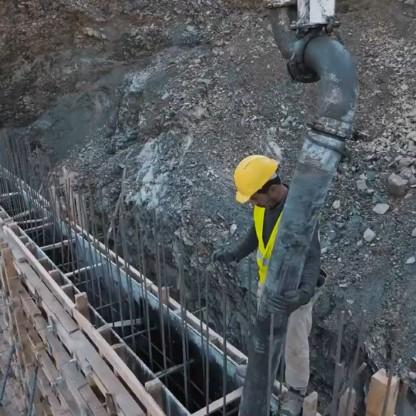helmet: (223, 150, 293, 221)
